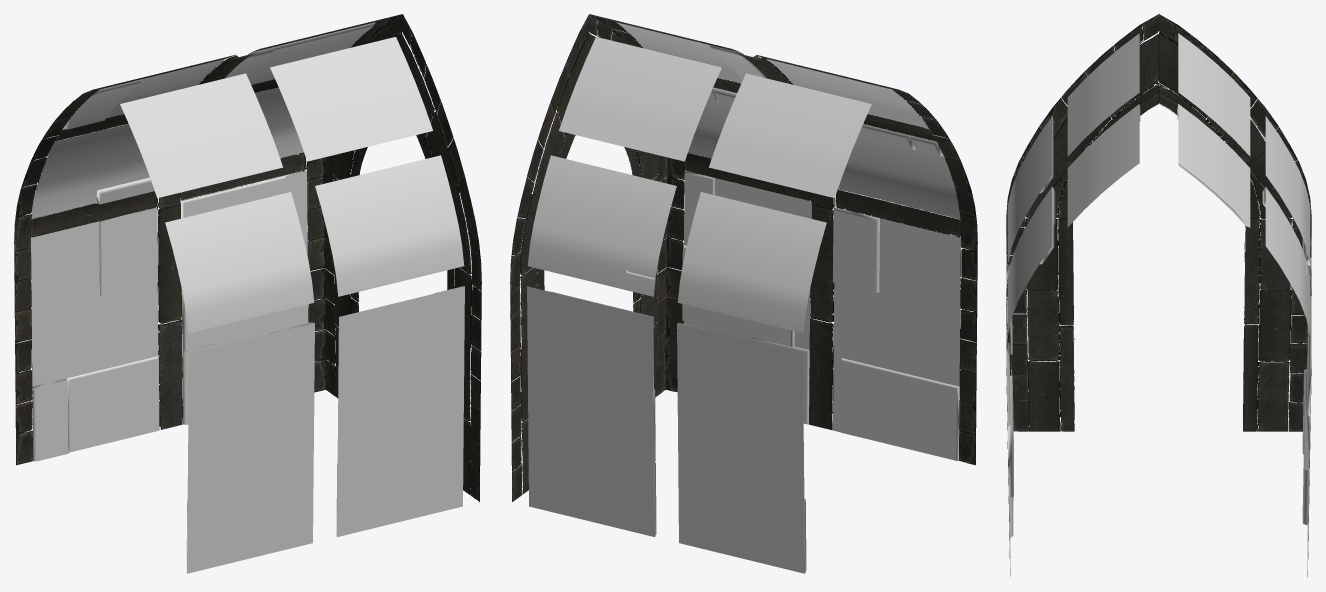
3 views of the same model, side by side, from view 1: azimuth 30°, elevation 25°; view 2: azimuth 150°, elevation 25°; view 3: azimuth 270°, elevation 25° (orthographic). The views are drawn at different scales.
Visible parts, largest first — view 1: SM_Greathall_Doorway_Hall_01_LOD0; view 2: SM_Greathall_Doorway_Hall_01_LOD0; view 3: SM_Greathall_Doorway_Hall_01_LOD0.
Boxes of the visible parts, x1=… form: SM_Greathall_Doorway_Hall_01_LOD0: x1=14, y1=14, x2=481, y2=573; SM_Greathall_Doorway_Hall_01_LOD0: x1=510, y1=14, x2=977, y2=573; SM_Greathall_Doorway_Hall_01_LOD0: x1=1006, y1=14, x2=1311, y2=577.
Bounding box in the file's own units: 8 × 10.66 × 7.06.
Materials: 2 (1 with a texture image).
